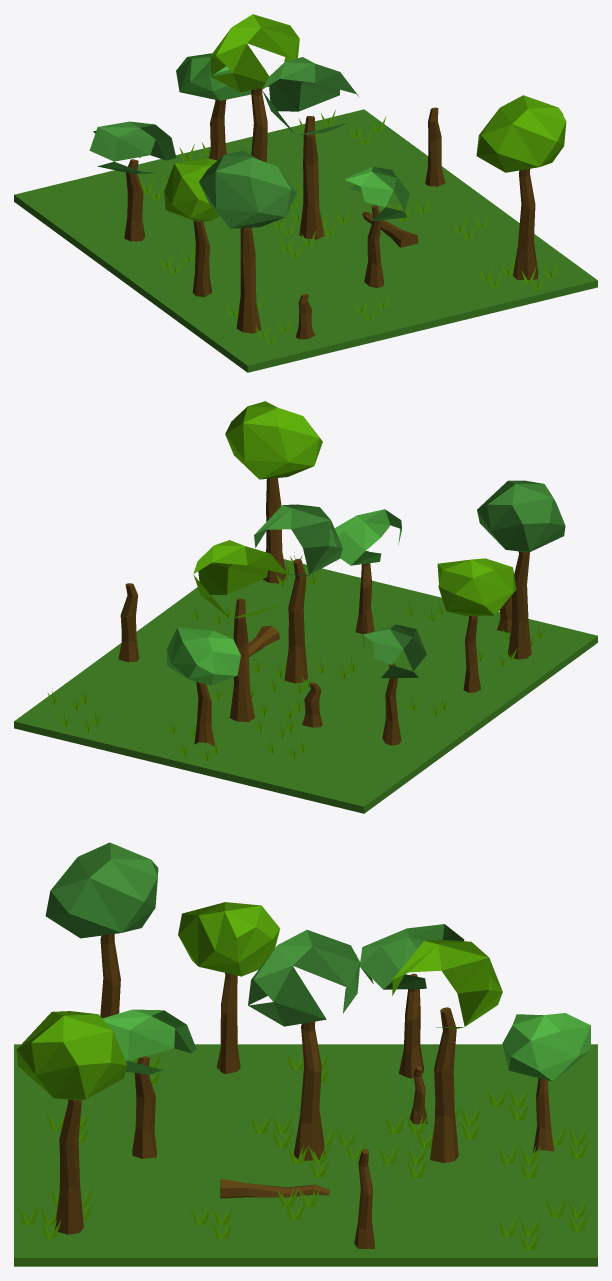
The model's file is Trees.glb.
3 views of the same model, one above another, from view 1: azimuth 30°, elevation 25°; view 2: azimuth 150°, elevation 25°; view 3: azimuth 270°, elevation 25° (orthographic). The views are drawn at different scales.
Visible parts, largest first — view 1: Box001, Feuilles002, Feuilles007, Tron, Tron006, Tron005, Feuilles003, Tron012, Feuilles004, Tron008, Tron011, Tron010; view 2: Box001, Feuilles007, Feuilles002, Tron006, Tron, Feuilles003, Feuilles004, Tron012, Tron005, Tron008, Tron009, Tron011; view 3: Box001, Feuilles007, Tron, Feuilles002, Tron006, Feuilles003, Feuilles004, Tron012, Tron005, Tron011, Tron008, Tron009.
Part boxes in pixels (x1,y1,x2,y2): Box001: (14,109,597,372); Feuilles002: (199,150,296,333); Feuilles007: (476,95,566,280); Tron: (262,57,358,239); Tron006: (210,14,299,162); Tron005: (89,121,176,241); Feuilles003: (164,158,218,297); Tron012: (342,167,409,287); Feuilles004: (176,53,265,160); Tron008: (425,107,445,186); Tron011: (362,211,418,247); Tron010: (296,294,315,339); Box001: (14,559,597,813); Feuilles007: (225,401,322,583); Feuilles002: (477,480,565,659); Tron006: (193,540,288,721); Tron: (254,504,342,683); Feuilles003: (437,558,516,692); Feuilles004: (166,627,240,746); Tron012: (334,509,401,634); Tron005: (362,624,426,745); Tron008: (118,583,139,662); Tron009: (302,682,322,727); Tron011: (248,625,279,657); Box001: (14,1044,597,1266); Feuilles007: (16,1011,127,1234); Tron: (248,930,360,1160); Feuilles002: (45,842,158,1018); Tron006: (392,939,502,1163); Feuilles003: (178,902,280,1074); Feuilles004: (502,1013,591,1152); Tron012: (102,1009,196,1158); Tron005: (360,924,464,1078); Tron011: (220,1178,329,1198); Tron008: (354,1149,374,1249); Tron009: (409,1066,427,1124).
Size of what is drawn, in the model's own units: 461 by 224 by 533.
